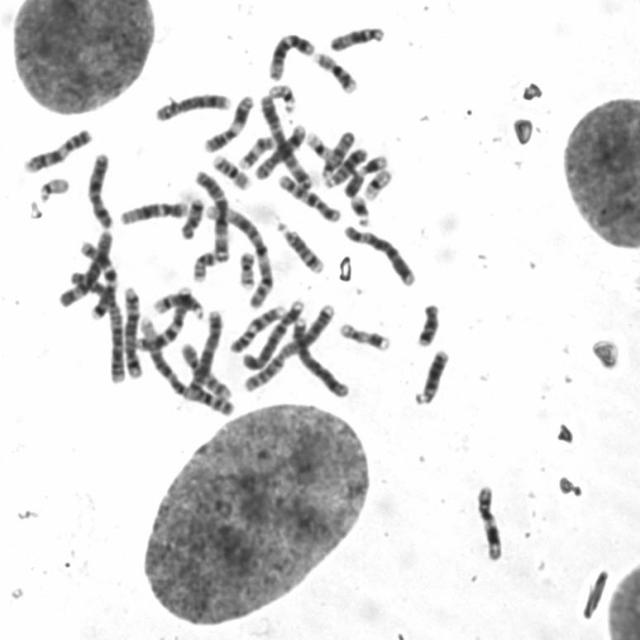A1: (136, 309, 237, 417), (199, 198, 274, 312)
A2: (237, 296, 339, 394), (65, 260, 126, 384)
A3: (254, 88, 313, 189), (188, 162, 232, 264)
B4: (286, 309, 352, 398), (236, 292, 307, 372)
B5: (180, 302, 225, 401), (118, 279, 144, 380)
C10: (273, 167, 343, 223), (175, 336, 235, 401)
C11: (198, 87, 256, 154), (471, 478, 505, 563)
C12: (262, 25, 317, 81), (114, 193, 190, 226)
C6: (338, 217, 418, 288), (54, 222, 116, 308)
C7: (132, 279, 195, 351), (75, 233, 120, 319)
C8: (249, 117, 307, 181), (149, 85, 233, 123)
C9: (18, 122, 94, 174), (225, 298, 287, 354)
D13: (408, 342, 451, 406), (317, 141, 369, 187)
D14: (272, 216, 326, 275), (148, 286, 206, 320)
D15: (316, 124, 357, 182), (324, 19, 387, 52)
E16: (308, 44, 359, 95), (208, 148, 252, 190)
E17: (333, 315, 393, 353), (233, 128, 277, 169)
E18: (174, 190, 207, 240), (411, 296, 442, 347)
F19: (358, 162, 394, 201), (301, 125, 335, 161)
F20: (232, 244, 259, 289), (187, 244, 218, 283)
G21: (353, 152, 390, 182), (345, 189, 373, 226)
G22: (32, 170, 71, 202), (264, 77, 298, 113)
X: (81, 146, 115, 230)
Y: (339, 165, 366, 198)
